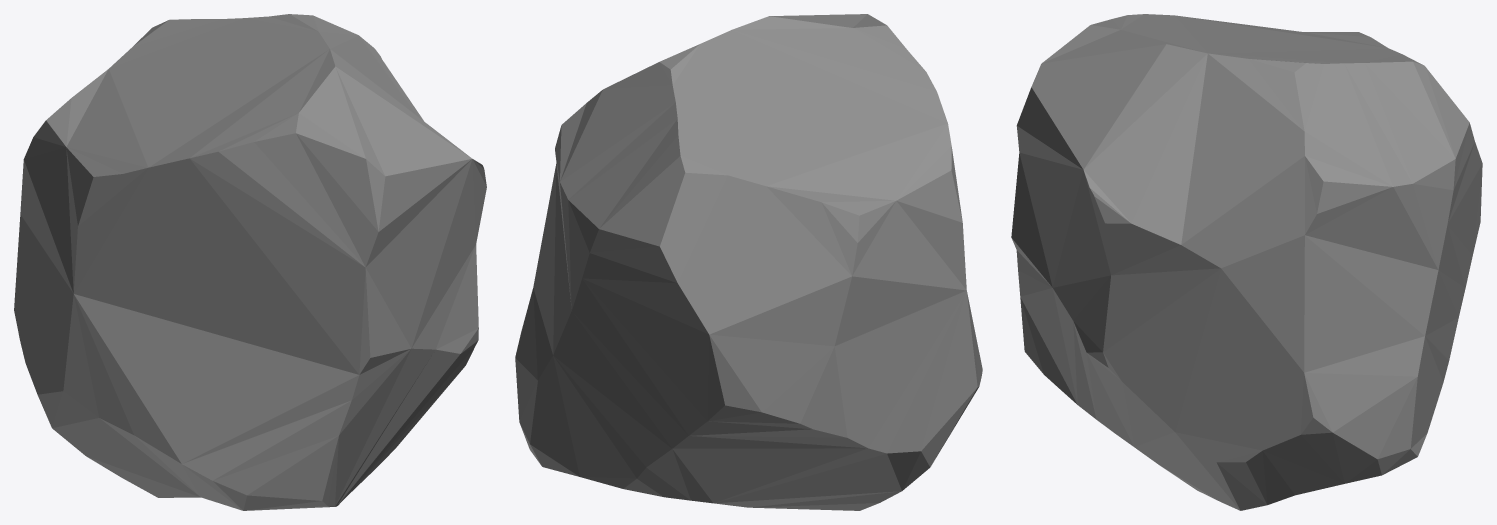
The model's file is Rock.dae.
The picture shows the model from 3 angles, left to right: view 1: azimuth 30°, elevation 25°; view 2: azimuth 150°, elevation 25°; view 3: azimuth 270°, elevation 25°; orthographic projection. The views are drawn at different scales.
Visible parts, largest first — view 1: Cube; view 2: Cube; view 3: Cube.
Boxes of the visible parts, x1,y1,x2,y2 form: Cube: (14, 14, 486, 510); Cube: (515, 14, 982, 510); Cube: (1011, 14, 1482, 510).
Size of the model in its own units: 3.85 by 3.93 by 4.05.
1 material, 1 textured.
